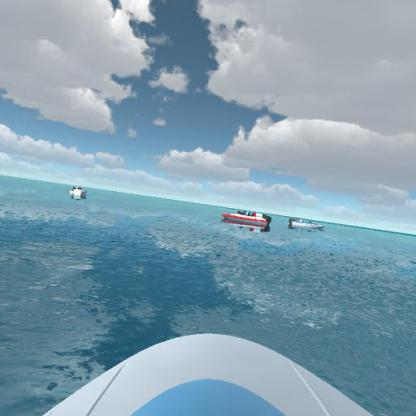usv1: (287, 212, 328, 236)
usv3: (218, 204, 275, 232), (66, 182, 92, 198)
